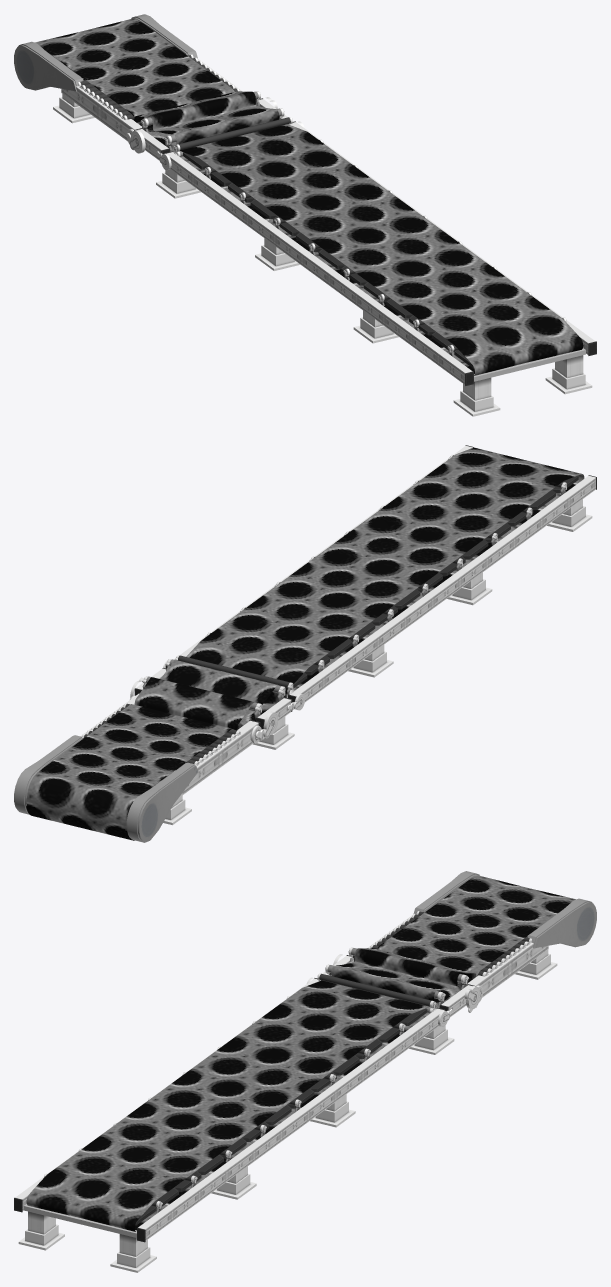
The model's file is Conveyor.gltf.
3 views of the same model, one above another, from view 1: azimuth 30°, elevation 25°; view 2: azimuth 150°, elevation 25°; view 3: azimuth 330°, elevation 25° (orthographic).
Parts seen in each view (by area): view 1: Conveyor, Legs, -Conveyor, InnerRectangles, Piece02, Rollers, bl19, Piece01, OuterBar08, OuterBar07, OuterBar06, OuterBar05 (+6 smaller); view 2: Conveyor, Legs, -Conveyor, Piece02, InnerRectangles, Piece01, Rollers, OuterBar07, OuterBar09, OuterBar08, OuterBar06, OuterBar05 (+5 smaller); view 3: Conveyor, Legs, -Conveyor, InnerRectangles, Piece01, Rollers, bl19, Piece02, OuterBar17, OuterBar14, OuterBar20, OuterBar19 (+6 smaller).
Part boxes in pixels (bbox=[...]): Conveyor: bbox=[35, 18, 583, 375]; Legs: bbox=[53, 94, 592, 416]; -Conveyor: bbox=[61, 58, 304, 170]; InnerRectangles: bbox=[183, 152, 473, 368]; Piece02: bbox=[14, 41, 83, 91]; Rollers: bbox=[173, 117, 292, 151]; bl19: bbox=[474, 348, 585, 381]; Piece01: bbox=[131, 14, 197, 58]; OuterBar08: bbox=[220, 192, 254, 225]; OuterBar07: bbox=[247, 212, 281, 245]; OuterBar06: bbox=[274, 232, 308, 265]; OuterBar05: bbox=[302, 252, 336, 285]; Conveyor: bbox=[26, 447, 584, 840]; Legs: bbox=[154, 499, 592, 825]; -Conveyor: bbox=[81, 659, 304, 795]; Piece02: bbox=[126, 762, 198, 842]; InnerRectangles: bbox=[293, 475, 578, 688]; Piece01: bbox=[14, 735, 83, 814]; Rollers: bbox=[174, 655, 293, 694]; OuterBar07: bbox=[371, 615, 405, 648]; OuterBar09: bbox=[317, 655, 350, 688]; OuterBar08: bbox=[344, 635, 378, 668]; OuterBar06: bbox=[398, 595, 432, 628]; OuterBar05: bbox=[425, 575, 459, 608]; Conveyor: bbox=[26, 875, 575, 1231]; Legs: bbox=[18, 950, 557, 1272]; -Conveyor: bbox=[306, 913, 548, 1027]; InnerRectangles: bbox=[135, 1008, 427, 1224]; Piece01: bbox=[527, 898, 596, 948]; Rollers: bbox=[317, 973, 436, 1008]; bl19: bbox=[23, 1204, 136, 1237]; Piece02: bbox=[413, 871, 479, 914]; OuterBar17: bbox=[247, 1128, 281, 1161]; OuterBar14: bbox=[328, 1068, 362, 1101]; OuterBar20: bbox=[165, 1188, 199, 1221]; OuterBar19: bbox=[192, 1168, 226, 1201].
Bounding box in the file's own units: 8.02 × 3.14 × 46.9.
